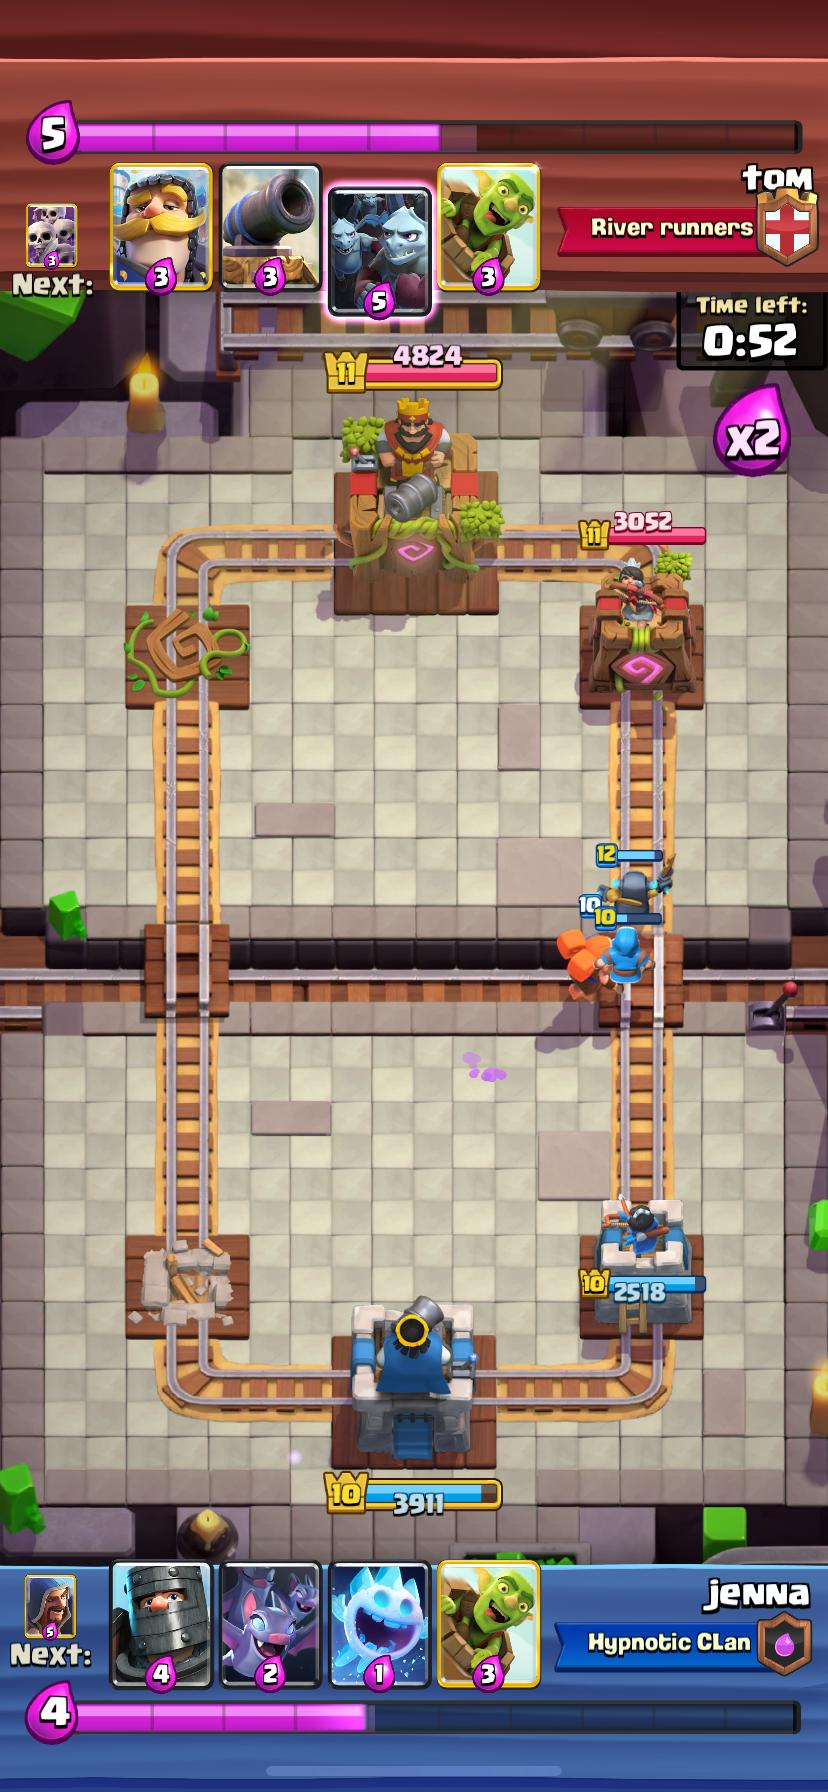EKingTower: (334, 398, 485, 578)
EnemyPrincessTower: (588, 558, 693, 693)
OBeserker: (558, 929, 604, 1000)
OFireWizard: (610, 923, 647, 986)
OMiniPekka: (603, 865, 661, 913)
OwnKingTower: (351, 1296, 476, 1461)
OwnPrincessTower: (591, 1198, 703, 1330)
TowerDown: (121, 602, 252, 707), (125, 1234, 252, 1342)
